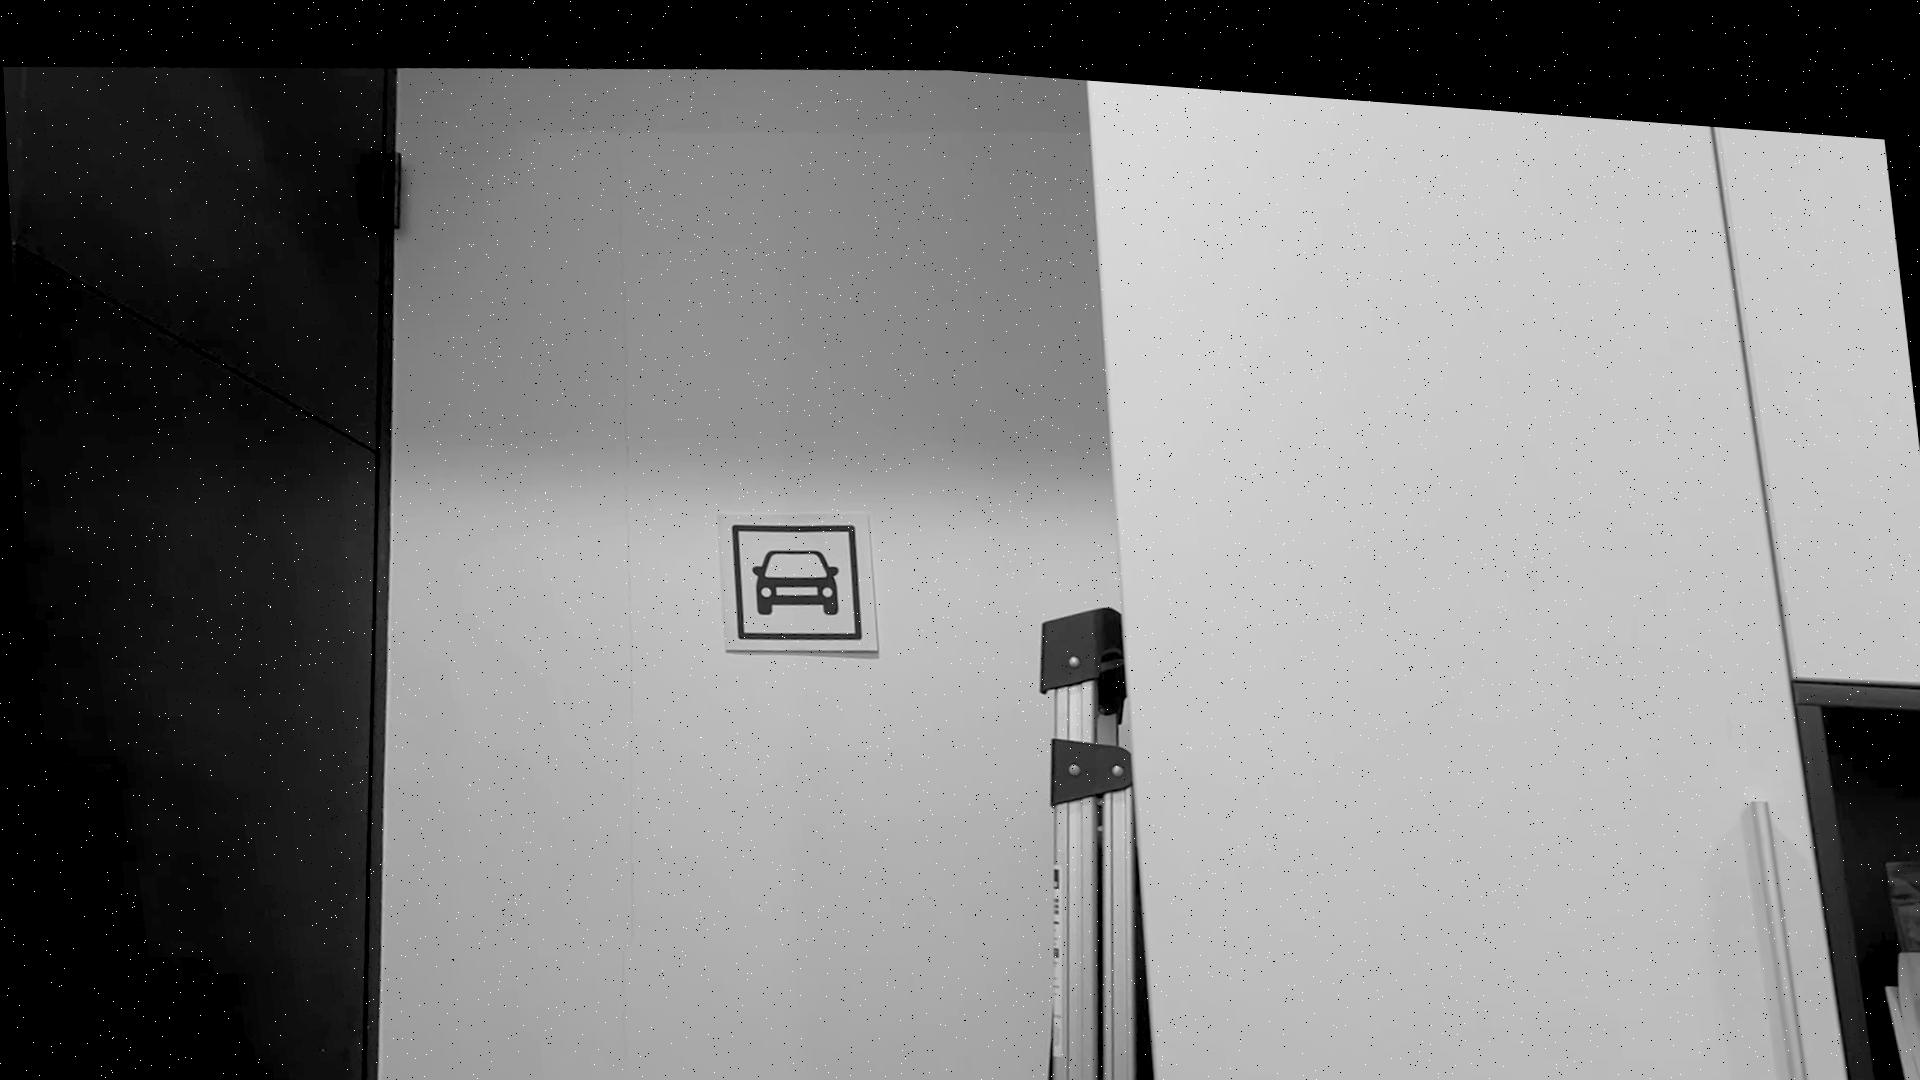car_img: (719, 502, 865, 638)
